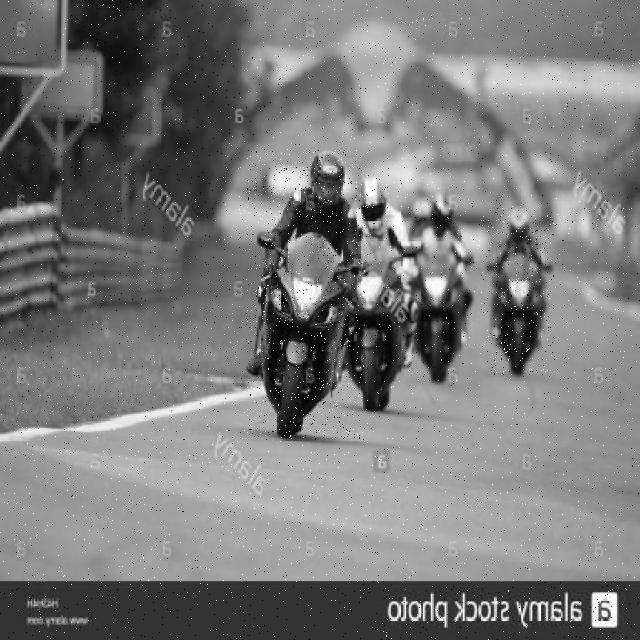Motorbike: (246, 150, 368, 440), (347, 175, 423, 411), (410, 194, 475, 383), (487, 210, 554, 375)
